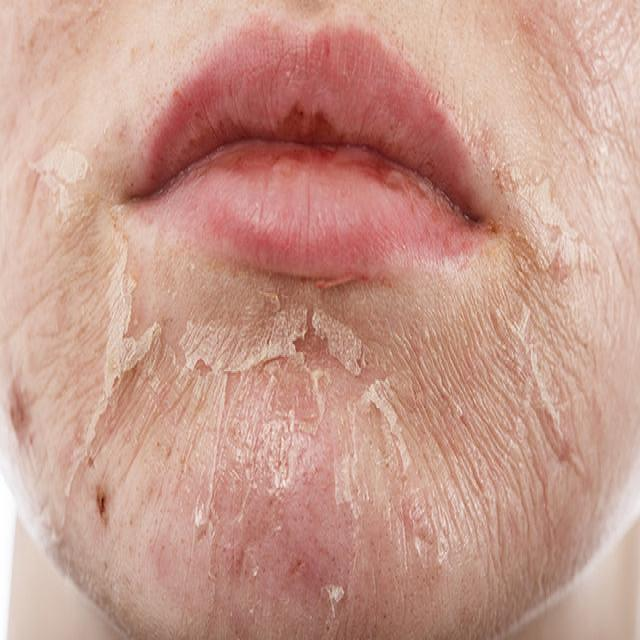dry: (34, 205, 562, 574)
